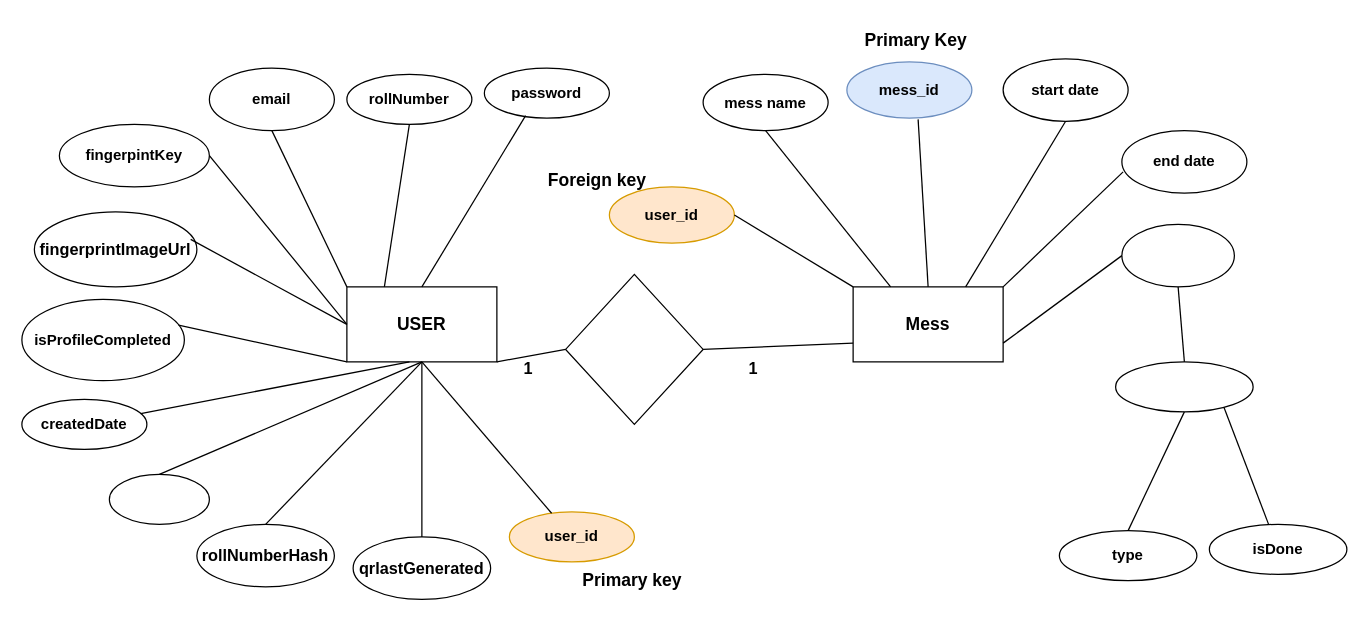
Some shapes in this 1369 by 621 pixel diagram are drawn without their labels. Here are the shapes that lost their labels. From the top down, the centre of each, then its label:
(x=1177, y=255): data
(x=633, y=348): user can choose mess
(x=1183, y=386): date
(x=158, y=498): role
